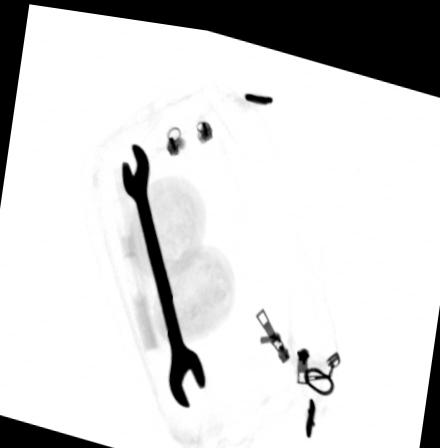Wrench: (119, 140, 206, 403)
